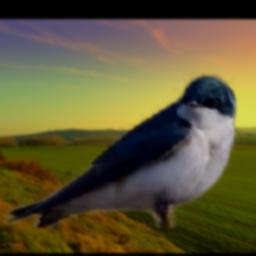Swallow: (4, 74, 237, 228)
